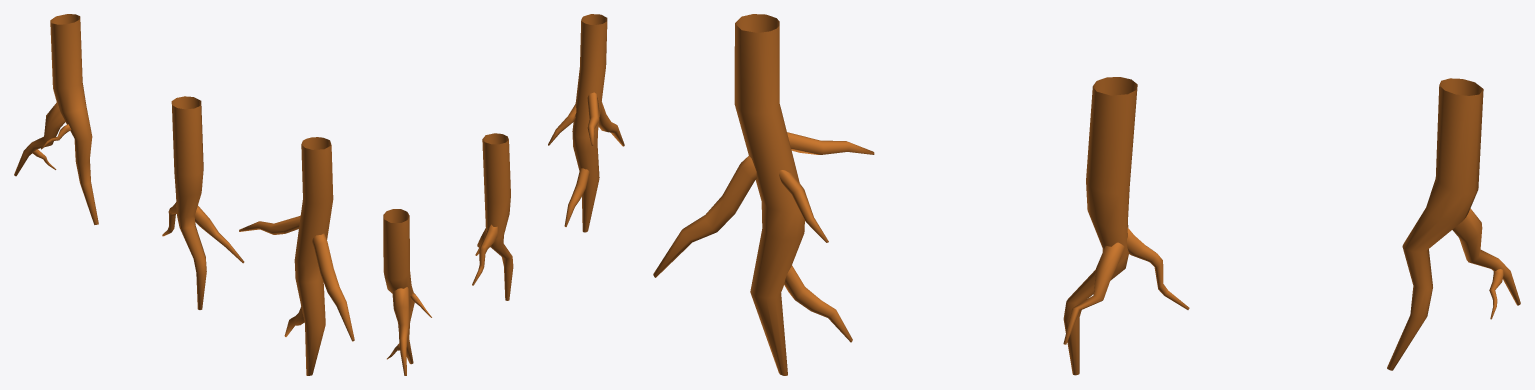
The model's file is raices.fbx.
3 renders of one model, left to right at view 1: azimuth 30°, elevation 25°; view 2: azimuth 150°, elevation 25°; view 3: azimuth 270°, elevation 25°, orthographic. The views are drawn at different scales.
Visible parts, largest first — view 1: Cylinder; view 2: Cylinder; view 3: Cylinder.
Part boxes in pixels (bbox=[...]): Cylinder: bbox=[14, 14, 354, 375]; Cylinder: bbox=[383, 14, 624, 375]; Cylinder: bbox=[653, 14, 1520, 375].
Bounding box in the file's own units: 67.9 × 206 × 455.
